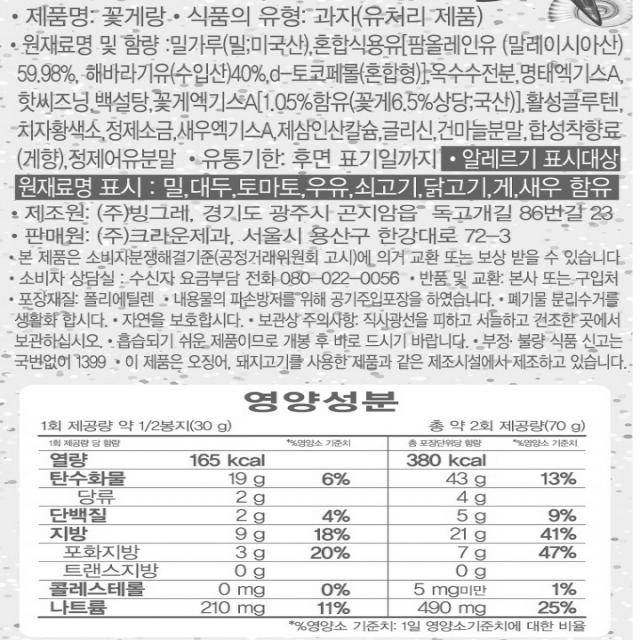Nutrition Label: (20, 386, 604, 638)
